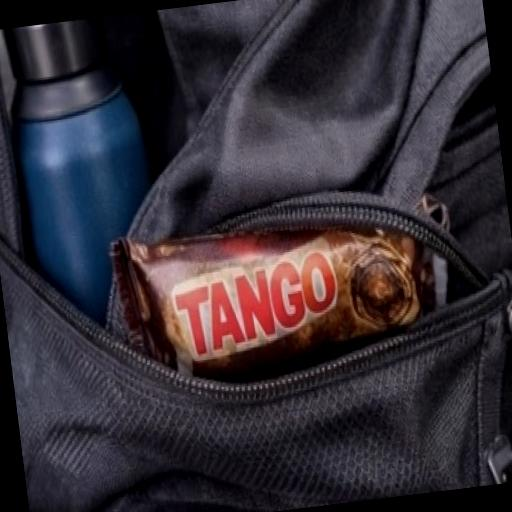tango: (53, 148, 479, 442)
